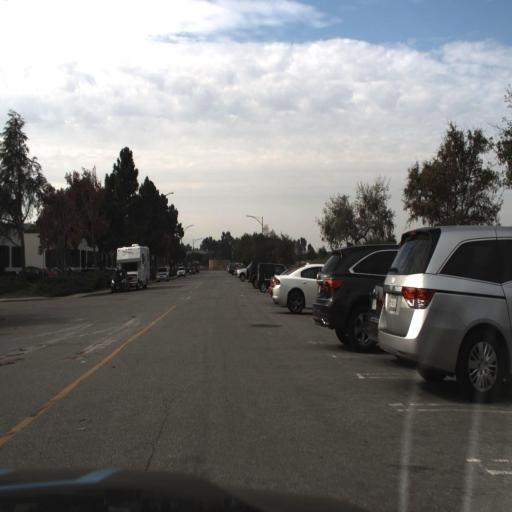car: (373, 222, 512, 400), (307, 243, 378, 347), (270, 262, 319, 310), (110, 263, 132, 292), (256, 258, 272, 294), (234, 258, 249, 285), (154, 264, 172, 284), (175, 264, 189, 280)
truck: (118, 245, 150, 287)
